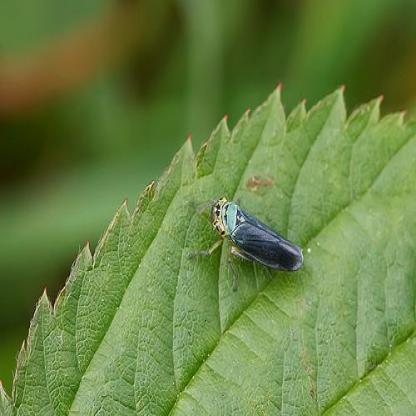Green-Leafhopper: (185, 192, 308, 278)
